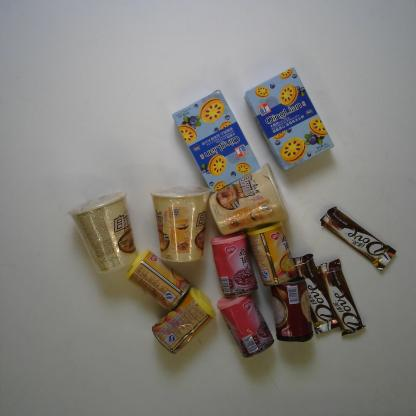Canned Food: (150, 288, 217, 357), (214, 289, 274, 359), (122, 250, 190, 309), (243, 218, 299, 288), (209, 231, 257, 300), (271, 277, 316, 345)
Chocolate: (321, 203, 398, 274), (294, 250, 341, 336), (316, 257, 363, 337)
Dessert: (243, 68, 342, 176), (168, 86, 261, 196)
Instant Noodles: (206, 163, 293, 238), (68, 193, 144, 277), (149, 181, 208, 265)
